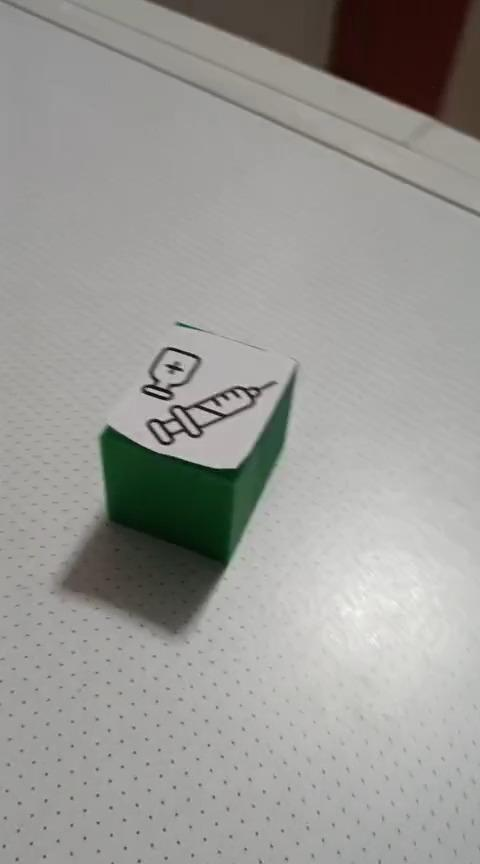antiseptic cream: (97, 319, 300, 564)
